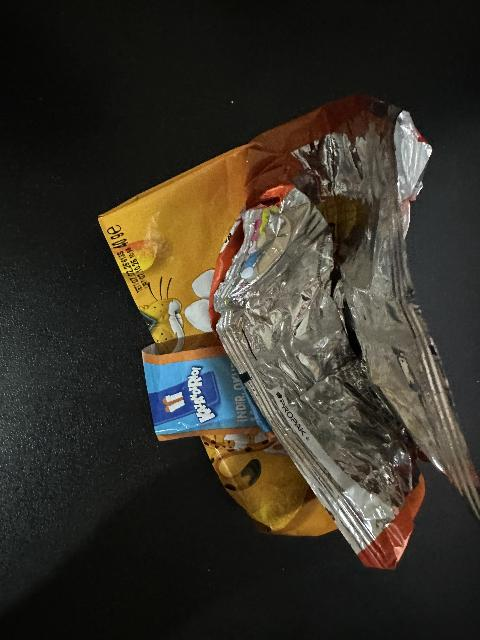Plastik: (95, 94, 480, 579)
